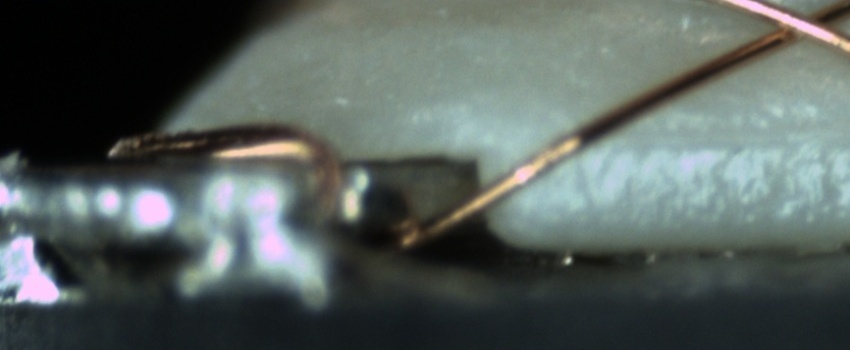CL: (748, 2, 847, 53)
DL: (589, 105, 849, 173)
TE: (101, 117, 345, 220)
